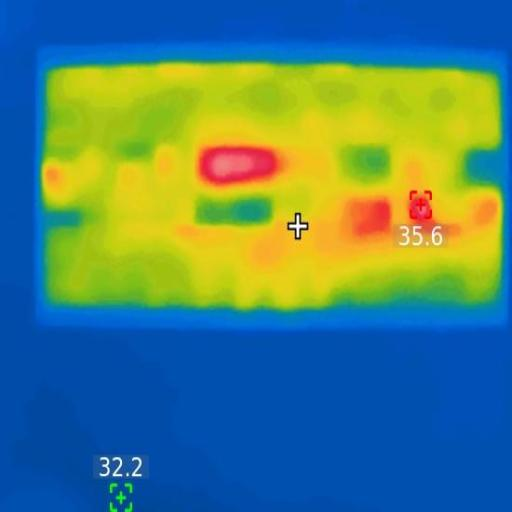hotspot: (197, 148, 277, 183), (412, 196, 433, 222)
